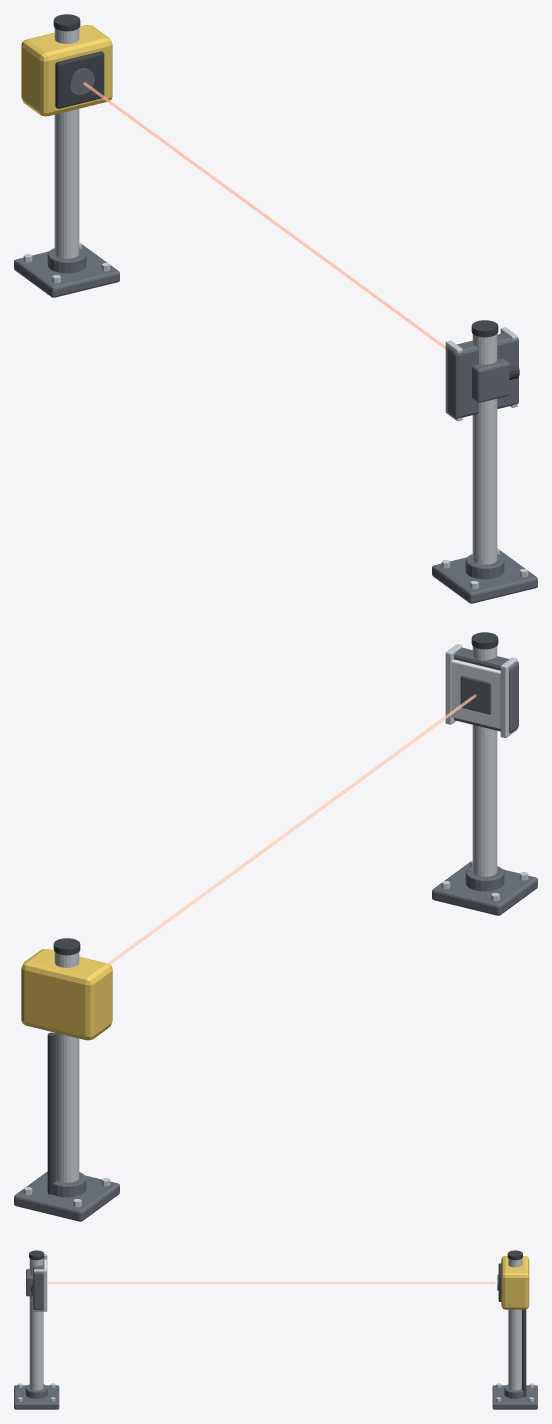
Rendered from sensor_visual.glb.
The picture shows the model from 3 angles, top to bottom: view 1: azimuth 30°, elevation 25°; view 2: azimuth 150°, elevation 25°; view 3: azimuth 270°, elevation 25°; orthographic projection. The views are drawn at different scales.
Parts seen in each view (by area): view 1: MountingPost_1, SensorHead, MountingPost_-1, ReflectorFrame, FootPlate_-1, FootPlate_1, OpticalRim, OpticalBeam, ClampBlock_1, PostCollar_1, PostCollar_-1; view 2: SensorHead, MountingPost_1, MountingPost_-1, FootPlate_1, FootPlate_-1, ReflectorPlate, OpticalBeam, SensorCable, ReflectorFrame, ClampBlock_1, ReflectorBracket_-0.072, PostCollar_1; view 3: SensorHead, MountingPost_1, MountingPost_-1, OpticalBeam, FootPlate_1, FootPlate_-1, ReflectorFrame, SensorCable, PostCollar_1, ReflectorBracket_0.072.
Part boxes in pixels (<box>): MountingPost_1: <box>472,334,497,564</box>; SensorHead: <box>21,25,112,116</box>; MountingPost_-1: <box>54,28,79,258</box>; ReflectorFrame: <box>447,333,518,418</box>; FootPlate_-1: <box>14,244,119,297</box>; FootPlate_1: <box>432,550,537,603</box>; OpticalRim: <box>55,51,104,108</box>; OpticalBeam: <box>83,82,445,349</box>; ClampBlock_1: <box>472,358,509,402</box>; PostCollar_1: <box>465,554,504,579</box>; PostCollar_-1: <box>47,248,86,273</box>; SensorHead: <box>21,949,112,1040</box>; MountingPost_1: <box>472,646,497,876</box>; MountingPost_-1: <box>54,952,79,1182</box>; FootPlate_1: <box>432,862,537,915</box>; FootPlate_-1: <box>14,1171,119,1221</box>; ReflectorPlate: <box>451,659,500,728</box>; OpticalBeam: <box>107,694,476,964</box>; SensorCable: <box>47,1032,55,1194</box>; ReflectorFrame: <box>454,647,518,733</box>; ClampBlock_1: <box>460,676,491,714</box>; ReflectorBracket_-0.072: <box>500,657,517,737</box>; PostCollar_1: <box>465,866,504,891</box>; SensorHead: <box>501,1256,529,1309</box>; MountingPost_1: <box>29,1258,43,1390</box>; MountingPost_-1: <box>508,1258,522,1390</box>; OpticalBeam: <box>47,1282,495,1283</box>; FootPlate_1: <box>14,1385,59,1409</box>; FootPlate_-1: <box>492,1385,537,1409</box>; ReflectorFrame: <box>33,1258,44,1310</box>; SensorCable: <box>522,1309,526,1397</box>; PostCollar_1: <box>25,1384,47,1398</box>; ReflectorBracket_0.072: <box>33,1269,47,1311</box>.
Size of the model in its own units: 0.19 by 0.6435 by 2.08.
